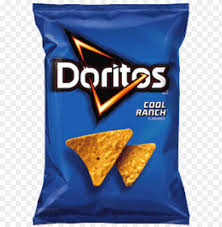Doritos: (32, 4, 189, 215)
